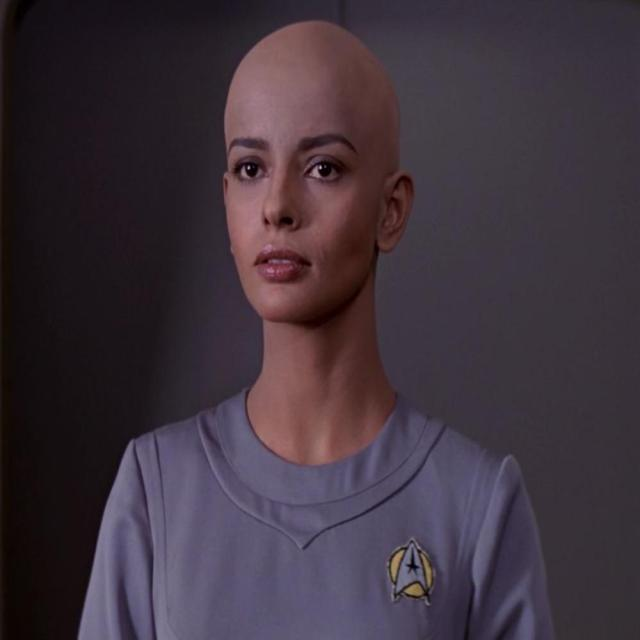no_helmet: (204, 13, 420, 175)
